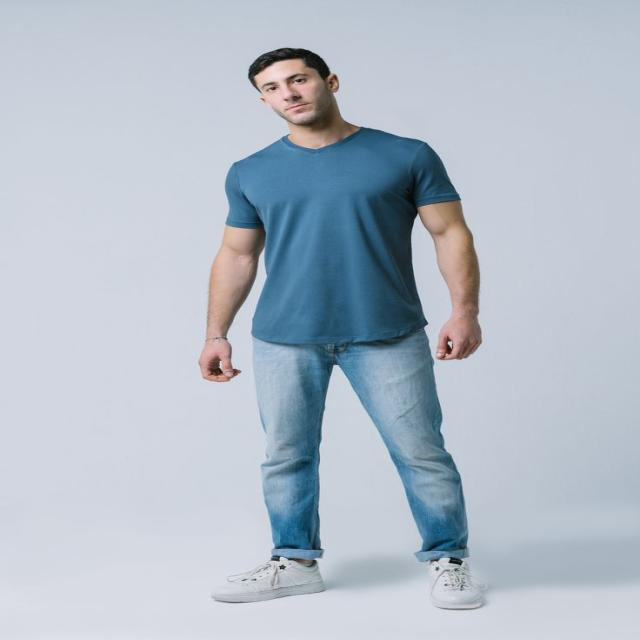shoulder: (222, 138, 450, 204)
